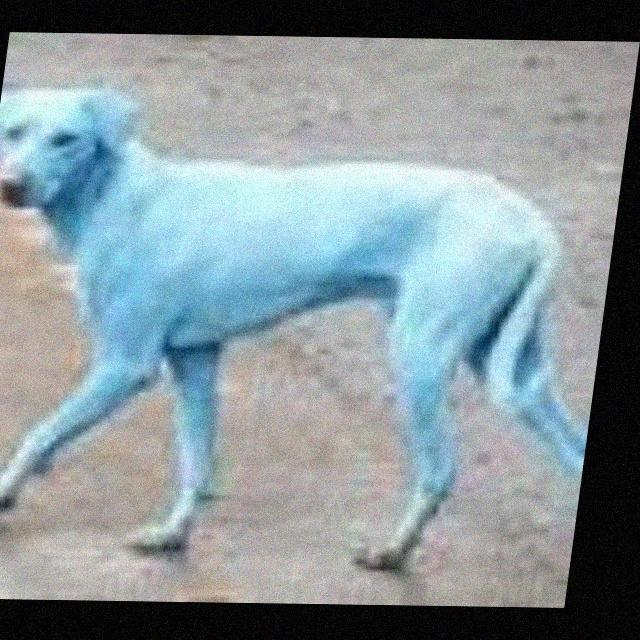dog: (0, 69, 634, 592)
